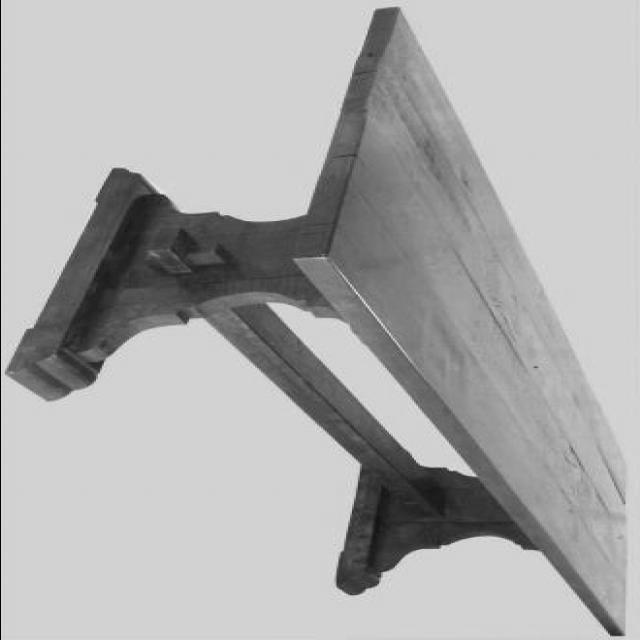table: (11, 7, 633, 639)
